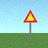sign: (23, 10, 37, 41)
